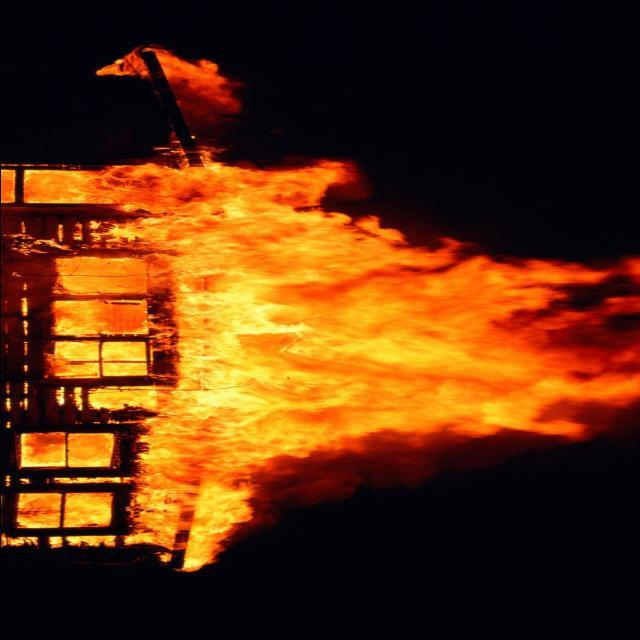Fire: (0, 51, 640, 576)
